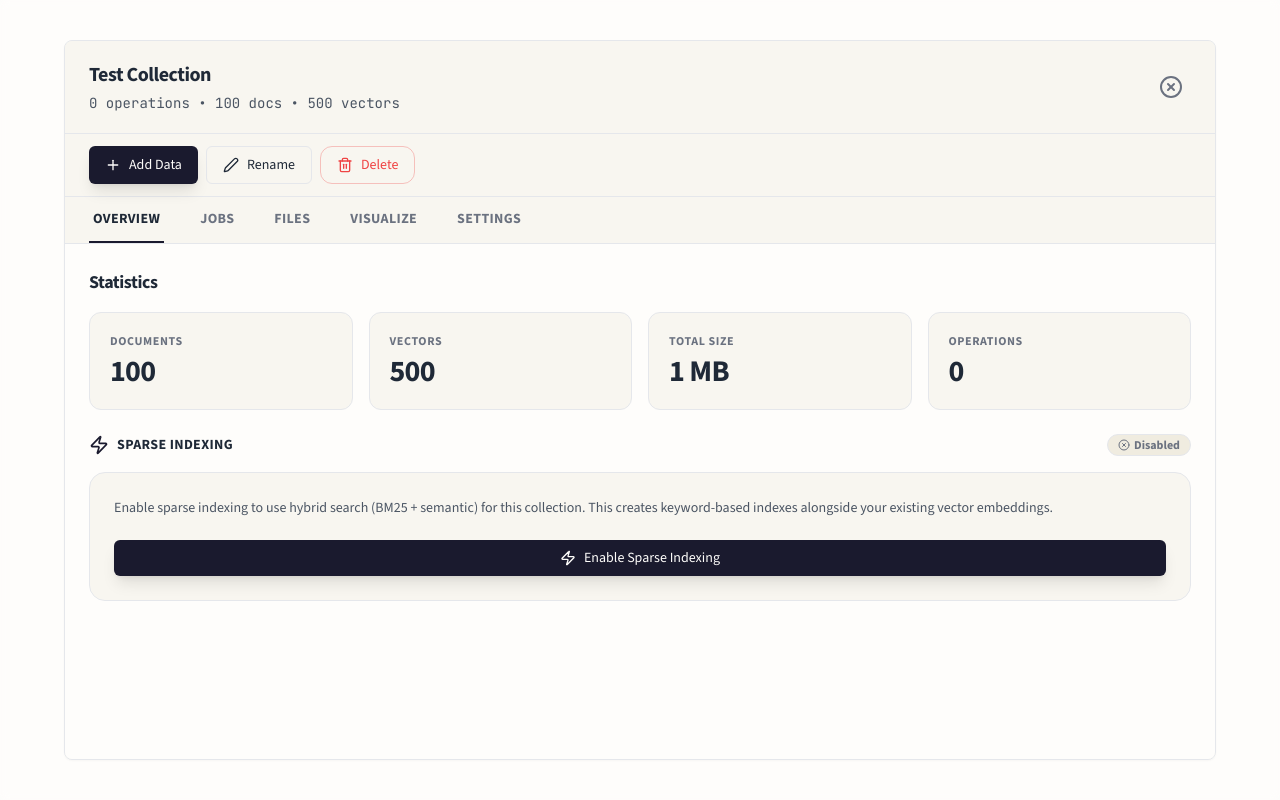
Scenario: CollectionDetailsModal › Tab Navigation › should switch to files tab and show documents
Click the button "Files" at [292, 220], box [270, 197, 314, 243]
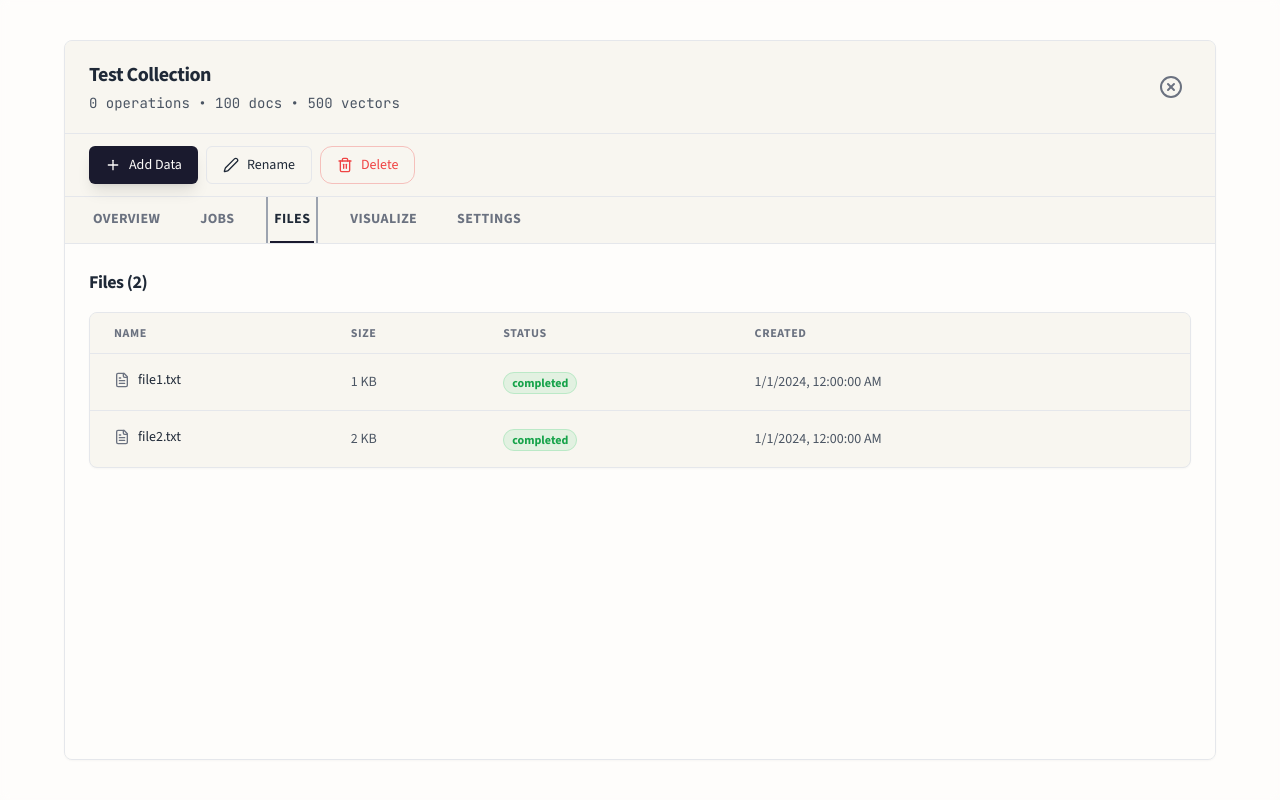
Expected: the heading "Files (2)" is shown, [89, 268, 147, 296]
Expected: the text "file1.txt" is shown, [138, 370, 181, 390]
Expected: the text "file2.txt" is shown, [138, 427, 181, 447]
